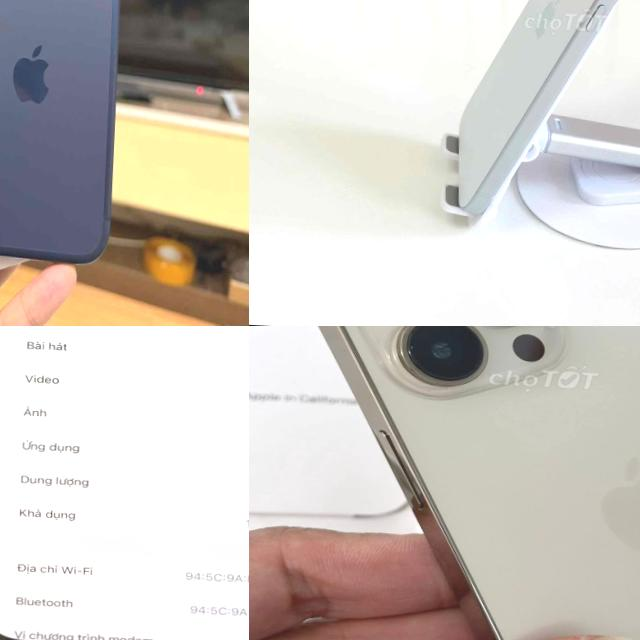gen_12_13: (0, 326, 249, 640)
gen_14: (266, 326, 640, 640)
gen_15: (421, 0, 640, 240)
gen_17: (0, 0, 143, 276)
